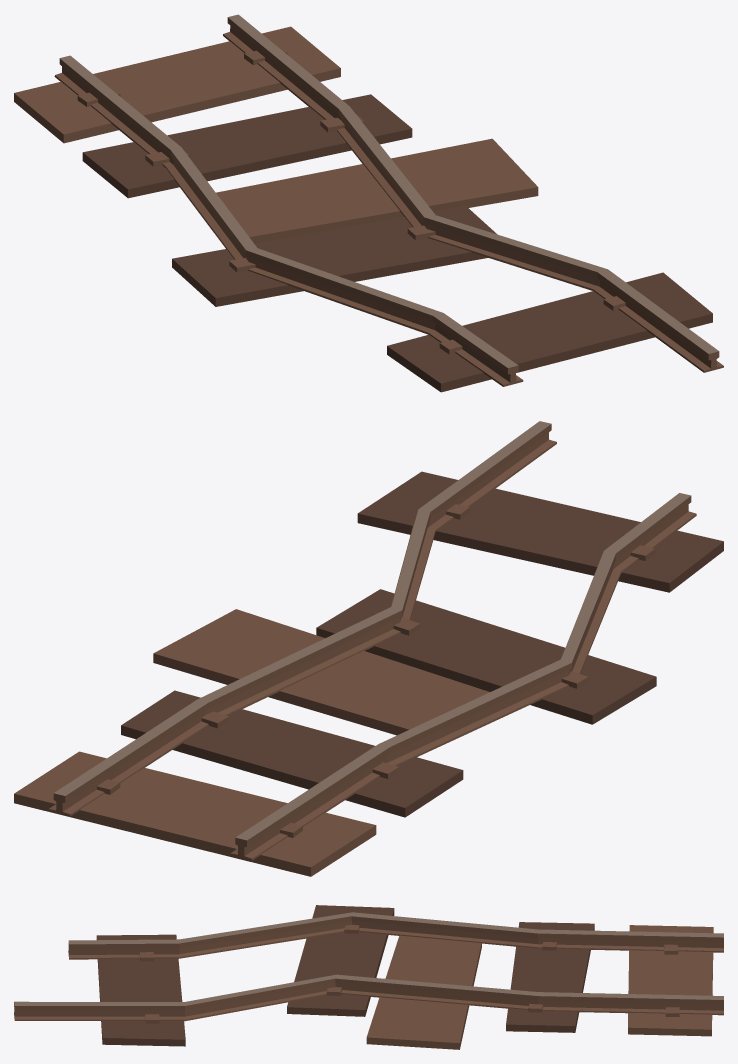
File: Mines Car Track 3M Jiggle.glb
3 views of the same model, one above another, from view 1: azimuth 30°, elevation 25°; view 2: azimuth 150°, elevation 25°; view 3: azimuth 270°, elevation 25° (orthographic). The views are drawn at different scales.
Visible parts, largest first — view 1: Mines Car Track 3M jiggle; view 2: Mines Car Track 3M jiggle; view 3: Mines Car Track 3M jiggle.
Part boxes in pixels (x1,y1,x2,y2): Mines Car Track 3M jiggle: (14,14,723,392); Mines Car Track 3M jiggle: (14,421,723,876); Mines Car Track 3M jiggle: (14,905,723,1049).
Size of what is drawn, in the model's own units: 1.38 by 0.092 by 3.
Materials: 1 (1 with a texture image).
